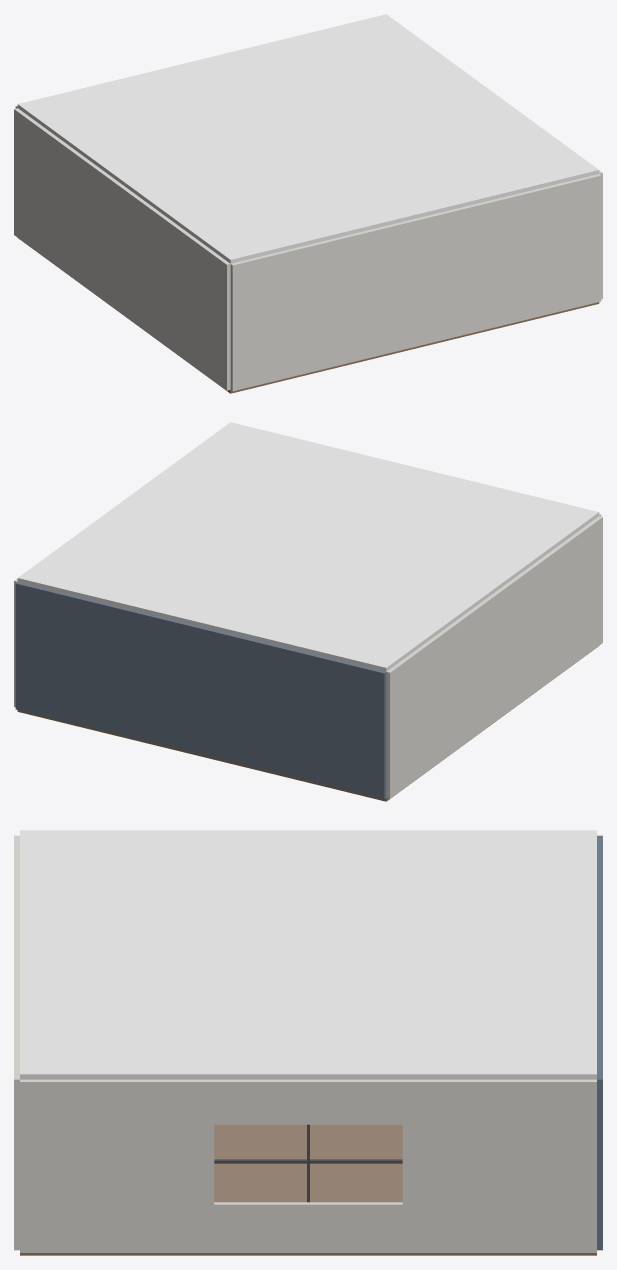
File: Project2.glb
The picture shows the model from 3 angles, top to bottom: view 1: azimuth 30°, elevation 25°; view 2: azimuth 150°, elevation 25°; view 3: azimuth 270°, elevation 25°; orthographic projection. The views are drawn at different scales.
Parts seen in each view (by area): view 1: Ceiling, Wall_Front, Wall_Left, Floor; view 2: Ceiling, Wall_Back, Wall_Left, Floor; view 3: Ceiling, Wall_R_Bottom, Wall_R_Top, Floor, Wall_R_SideA, Wall_R_SideB, Window_Glass, Wall_Back, Wall_Front, Window_FrameH.
Boxes of the visible parts, x1,y1,x2,y2 form: Ceiling: [17, 14, 599, 263]; Wall_Front: [230, 174, 601, 391]; Wall_Left: [14, 108, 230, 390]; Floor: [18, 238, 599, 393]; Ceiling: [17, 422, 599, 671]; Wall_Back: [15, 582, 386, 799]; Wall_Left: [386, 516, 602, 798]; Floor: [17, 646, 598, 801]; Ceiling: [20, 830, 596, 1079]; Wall_R_Bottom: [20, 1202, 596, 1252]; Wall_R_Top: [20, 1079, 596, 1124]; Floor: [20, 1124, 596, 1255]; Wall_R_SideA: [402, 1124, 596, 1204]; Wall_R_SideB: [20, 1124, 214, 1204]; Window_Glass: [214, 1125, 402, 1202]; Wall_Back: [597, 835, 602, 1250]; Wall_Front: [14, 835, 19, 1250]; Window_FrameH: [214, 1159, 402, 1163].
Size of the model in its own units: 10 by 3.4 by 10.
